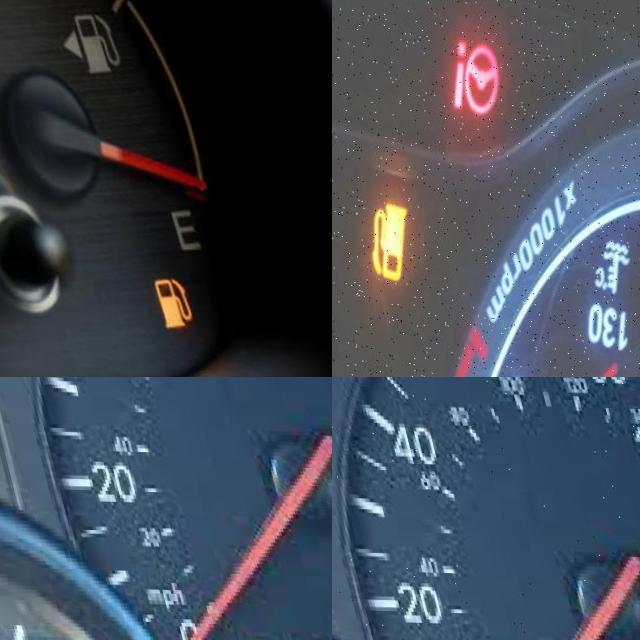Electronic Power Steering: (407, 3, 537, 145)
